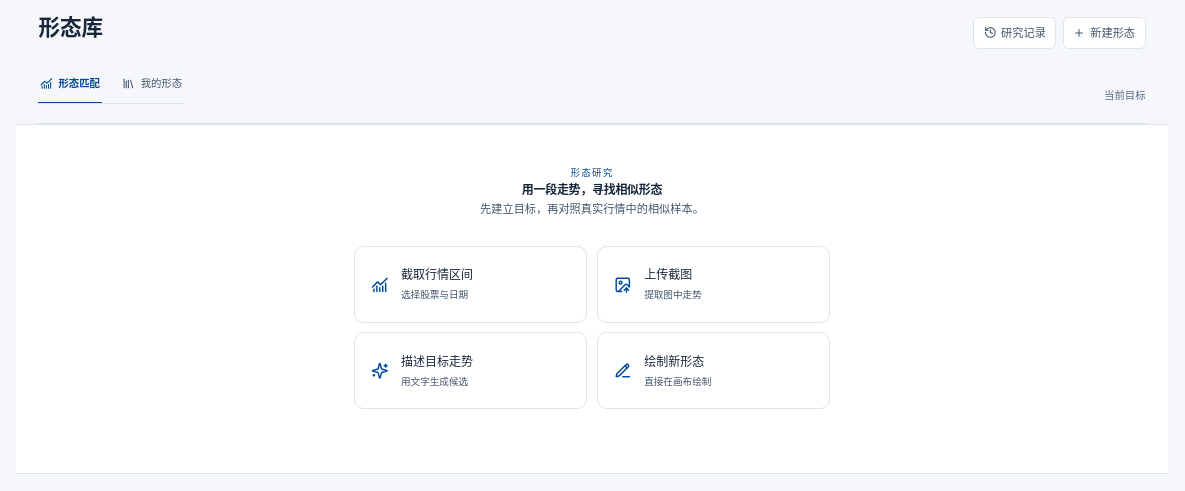
Test case: opens a temporary named tool for the blank starter 上传截图
This screenshot has width=1185, height=491.
Step 1. Click the button "上传截图 提取图中走势" → (714, 284), box x1=597 y1=246 x2=830 y2=323
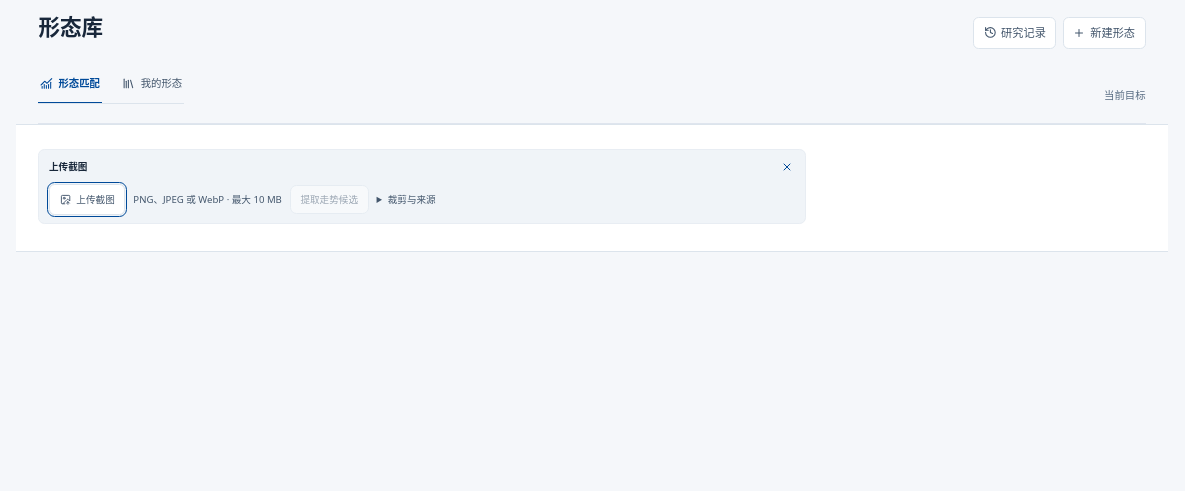
Now the header reads "上传截图", box x1=49 y1=160 x2=87 y2=173
Now the button named "关闭输入工具" is shown
Step 2. Click the button named "关闭输入工具" → (787, 167), box x1=777 y1=158 x2=796 y2=176
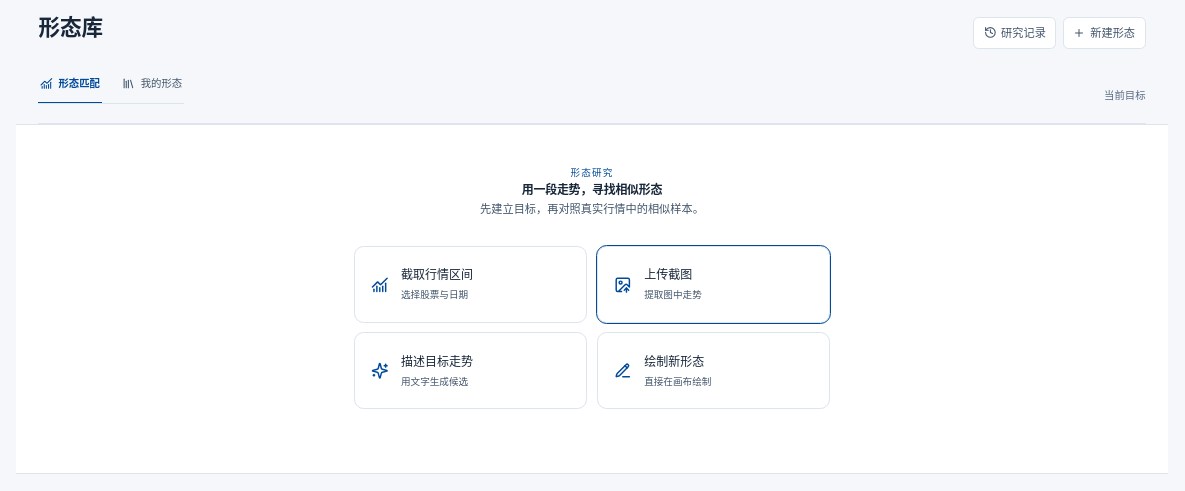
Now the element "输入工具" is gone
